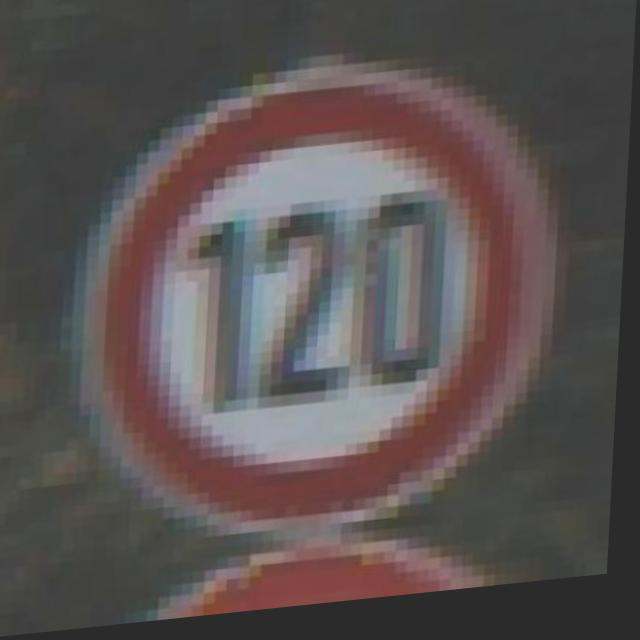limit120: (42, 36, 588, 567)
